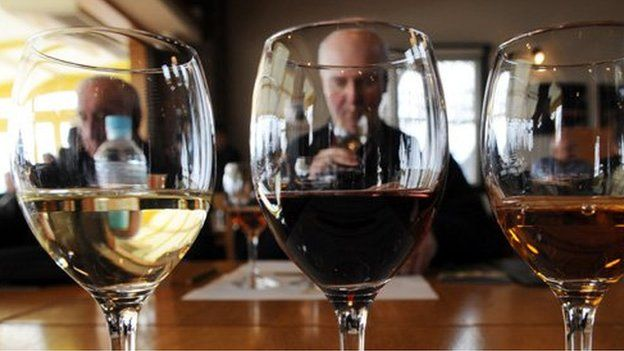drinking: (262, 14, 444, 191)
